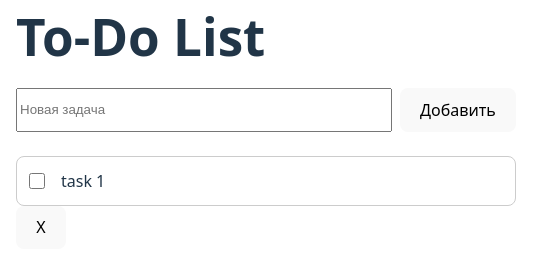
todo-list › Удаляет задачу из списка
Expected: the text "task 1" is shown, [61, 168, 105, 192]
Click the button with test id "remove-button": click(41, 227) [16, 206, 66, 249]
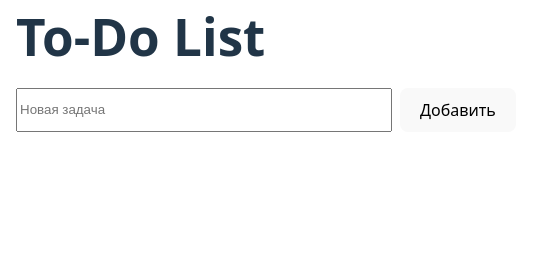
Expected: the text "task 1" is gone
